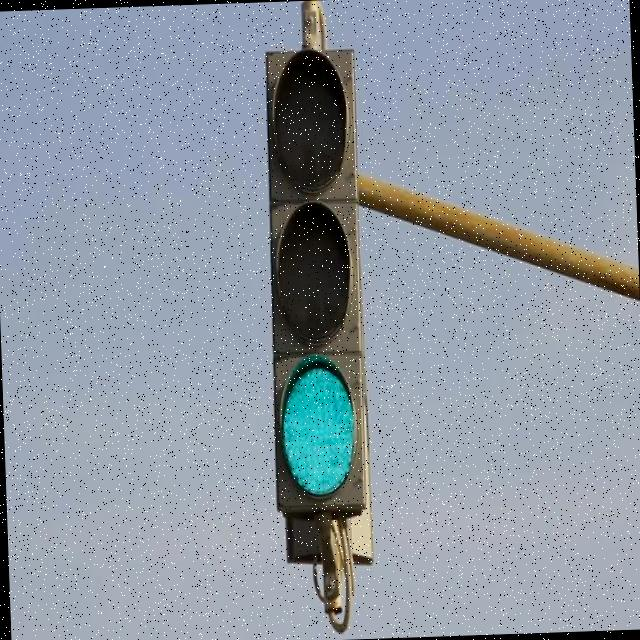Zielone swiatlo: (266, 46, 366, 518)
